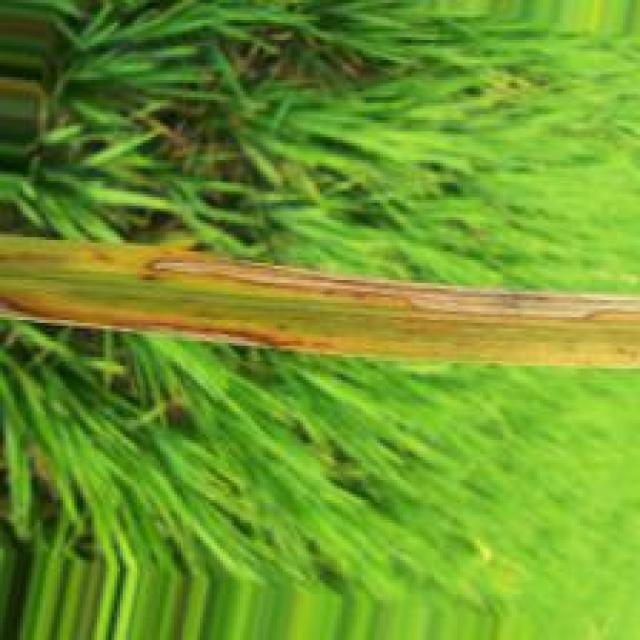Leaf_Blast: (143, 252, 640, 323), (1, 287, 349, 353)
